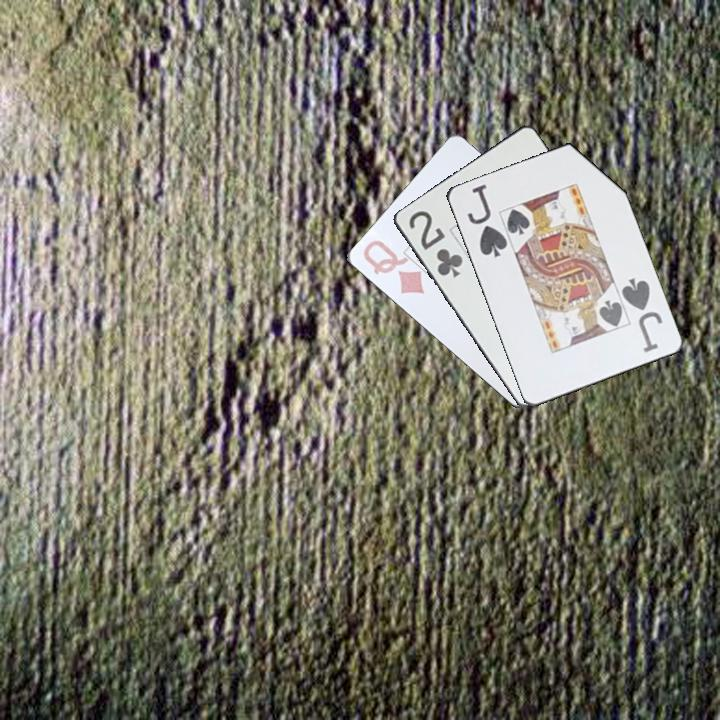2c: (405, 207, 466, 281)
Js: (617, 274, 665, 356), (463, 180, 510, 261)
Qd: (359, 236, 427, 297)
